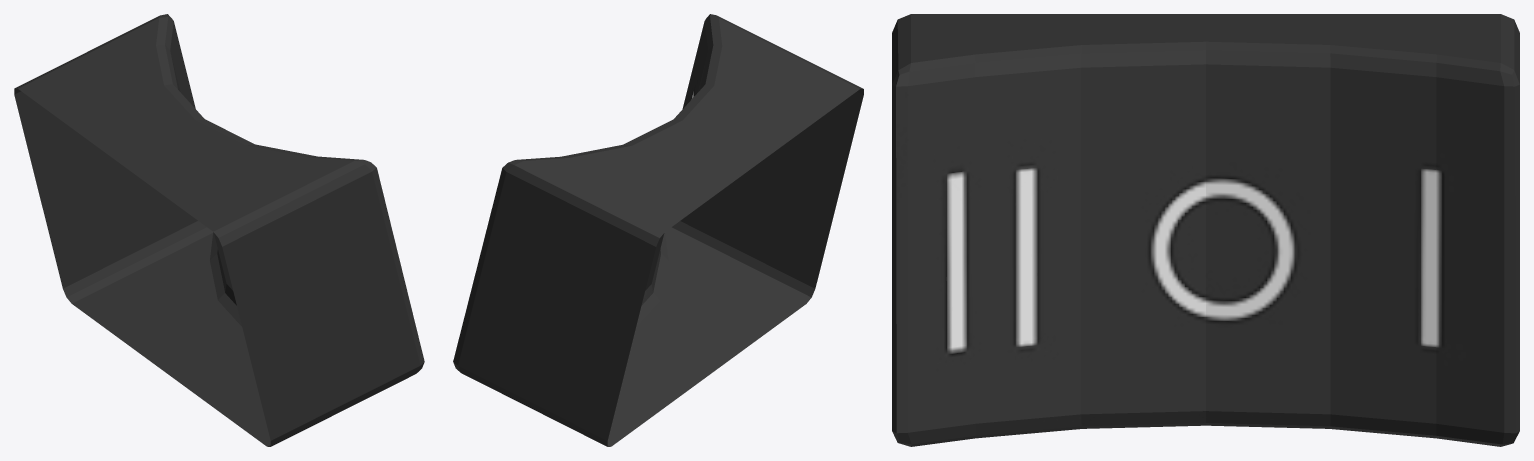
File: SM_涡旋振荡器_开关.fbx
The picture shows the model from 3 angles, left to right: view 1: azimuth 30°, elevation 25°; view 2: azimuth 150°, elevation 25°; view 3: azimuth 270°, elevation 25°; orthographic projection. The views are drawn at different scales.
Visible parts, largest first — view 1: SM_涡旋振荡器_开关; view 2: SM_涡旋振荡器_开关; view 3: SM_涡旋振荡器_开关.
Part boxes in pixels (bbox=[...]): SM_涡旋振荡器_开关: bbox=[14, 14, 424, 446]; SM_涡旋振荡器_开关: bbox=[453, 14, 863, 446]; SM_涡旋振荡器_开关: bbox=[892, 14, 1519, 446].
Bounding box in the file's own units: 22.46 × 27.41 × 39.05.
